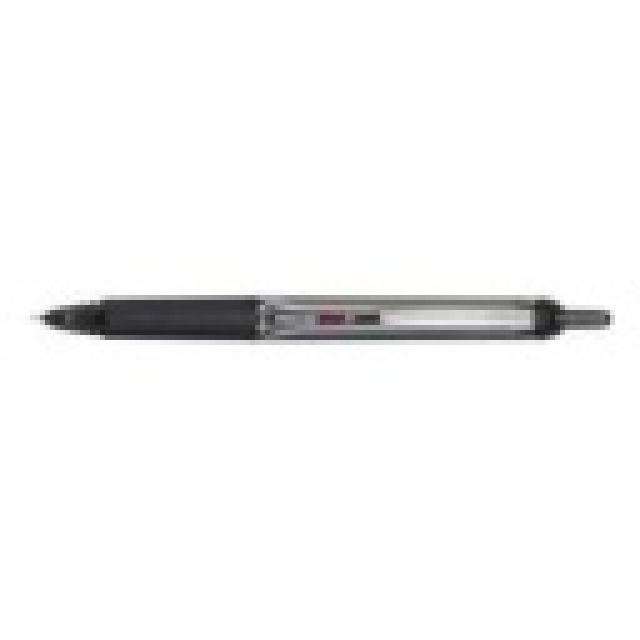pen: (19, 288, 629, 356)
